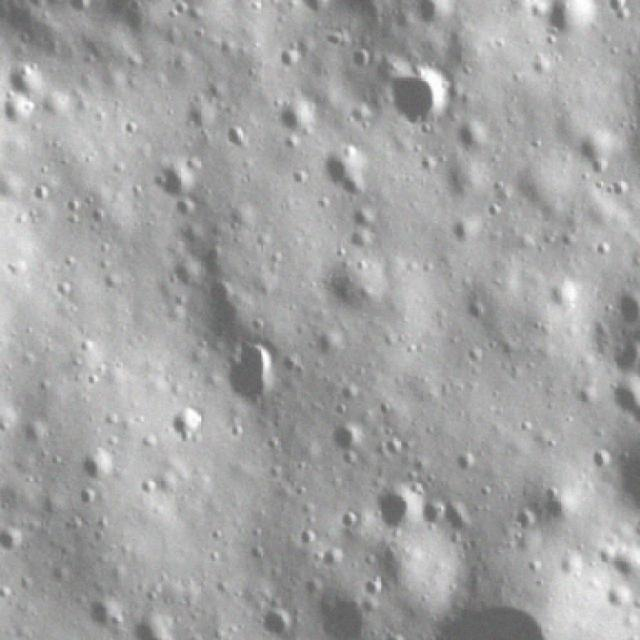crater: (222, 332, 289, 417), (378, 64, 452, 136), (180, 272, 254, 343), (362, 471, 428, 543), (311, 139, 367, 201), (561, 124, 617, 179), (601, 439, 640, 517), (154, 155, 201, 213), (544, 0, 607, 43), (68, 443, 120, 495), (316, 420, 370, 465), (311, 589, 366, 633), (594, 380, 640, 431), (597, 279, 640, 330), (154, 402, 200, 444), (601, 541, 640, 581), (216, 119, 258, 156), (250, 598, 290, 636), (544, 276, 582, 310), (275, 104, 313, 136), (510, 509, 541, 540), (450, 446, 478, 477)
